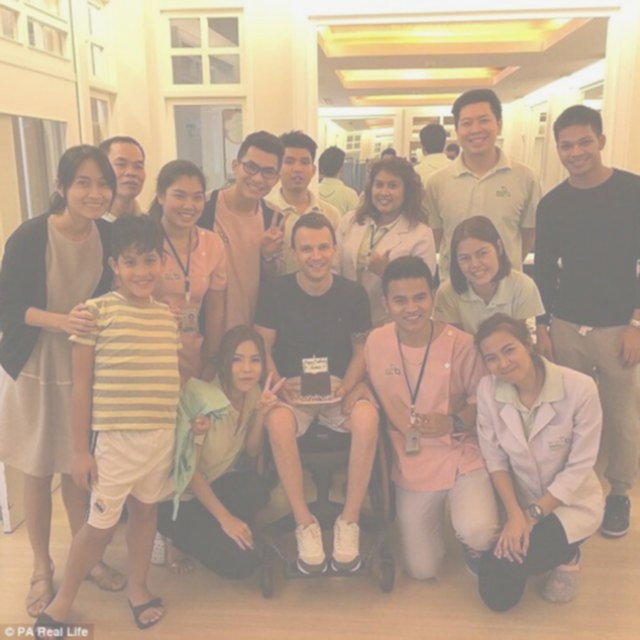pessoa: (31, 213, 186, 639), (3, 143, 128, 619), (356, 250, 514, 588), (530, 103, 639, 541), (252, 208, 374, 578), (471, 309, 608, 615), (154, 320, 289, 580), (420, 82, 547, 286), (192, 130, 292, 334), (150, 157, 232, 380), (339, 156, 440, 330), (430, 213, 548, 335), (264, 126, 344, 280), (91, 134, 150, 300), (406, 121, 456, 190), (316, 143, 362, 217), (432, 138, 465, 158), (378, 140, 398, 170)
